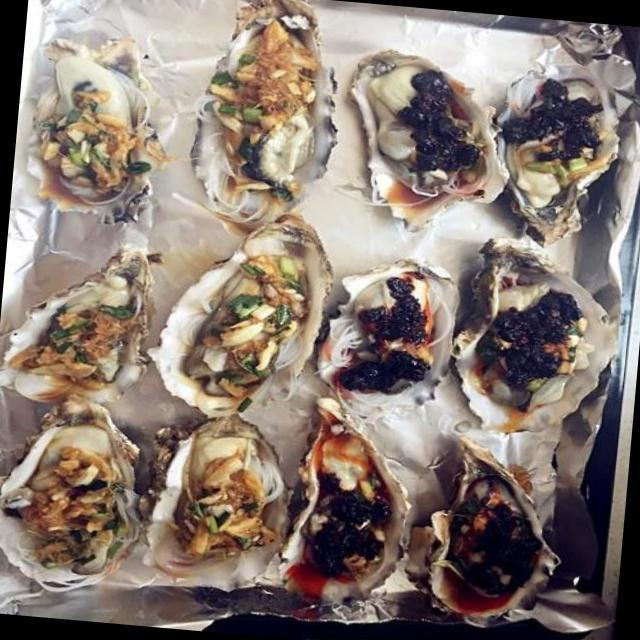Oyster-Open: (137, 207, 339, 428), (446, 228, 627, 449), (188, 0, 346, 243), (338, 38, 523, 238), (267, 397, 422, 621), (407, 429, 571, 640), (0, 384, 156, 603), (135, 402, 297, 604), (8, 31, 168, 230), (0, 233, 159, 412), (316, 239, 459, 437), (495, 58, 630, 252)
